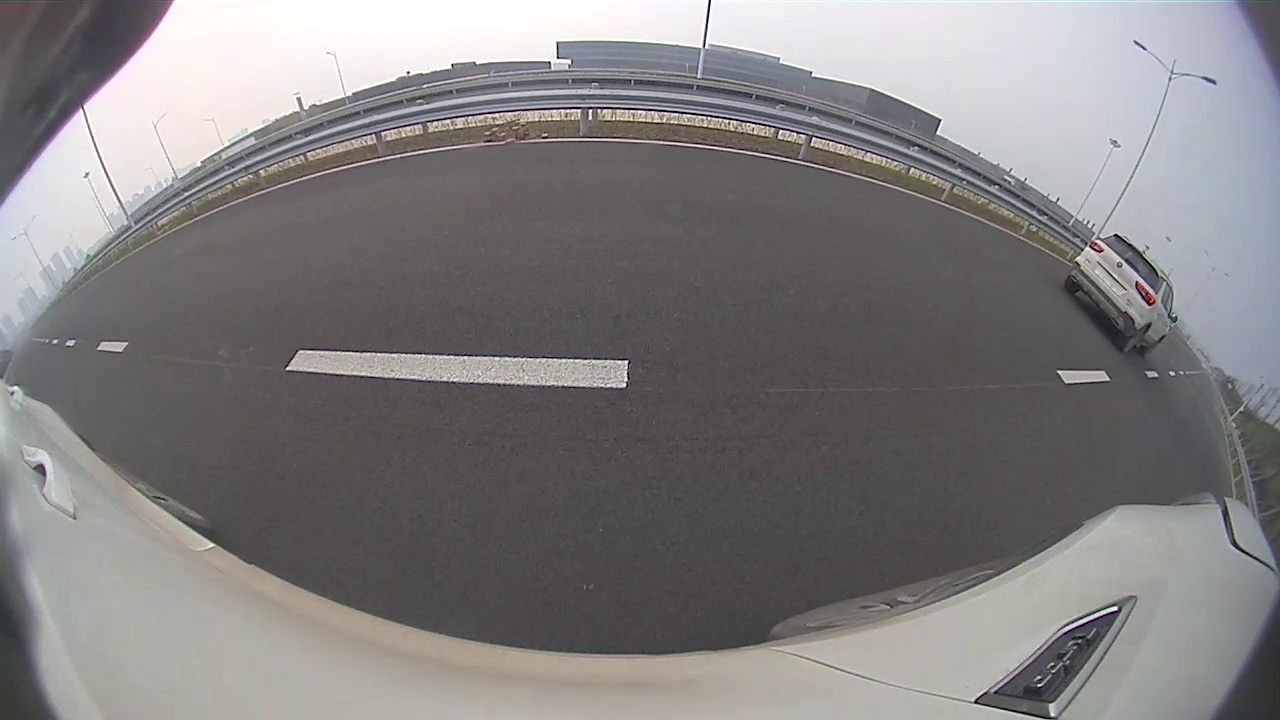car: (707, 148, 784, 198)
front: (708, 173, 713, 190)
rear: (725, 175, 733, 196)
